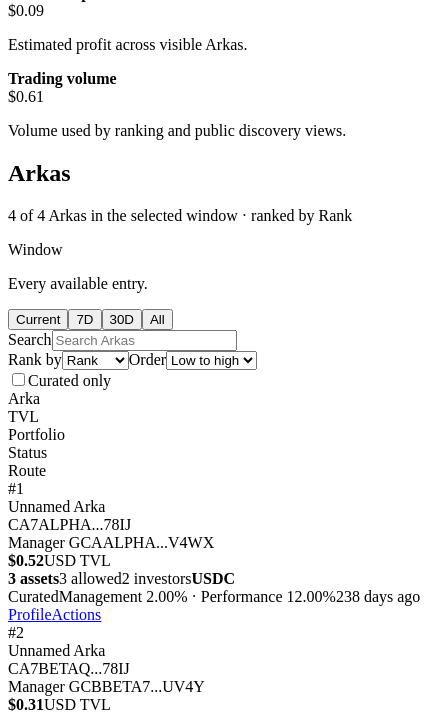
Test case: vault entrypoints › orders the leaderboard by profit and volume
(page scrolled)
Select "Profit" in the dropdown with test id "vaults-sort-metric" at (95, 360), box [62,351,129,370]
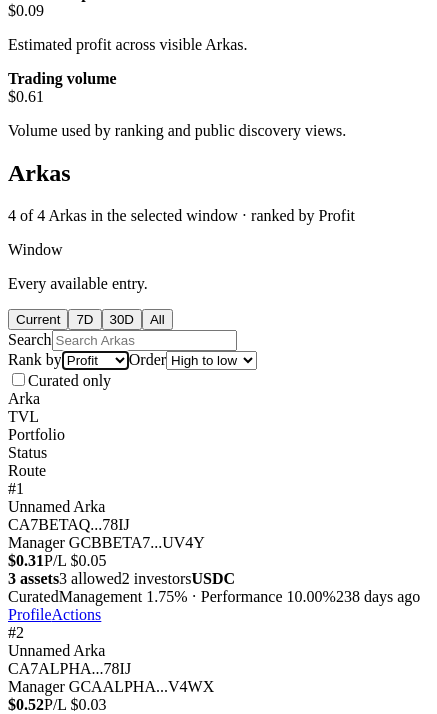
Expected: the element with test id "vault-leaderboard-card" shows "P/L $", [44,552,106,569]
Select "Volume" in the dropdown with test id "vaults-sort-metric" at (95, 360), box [62,351,129,370]
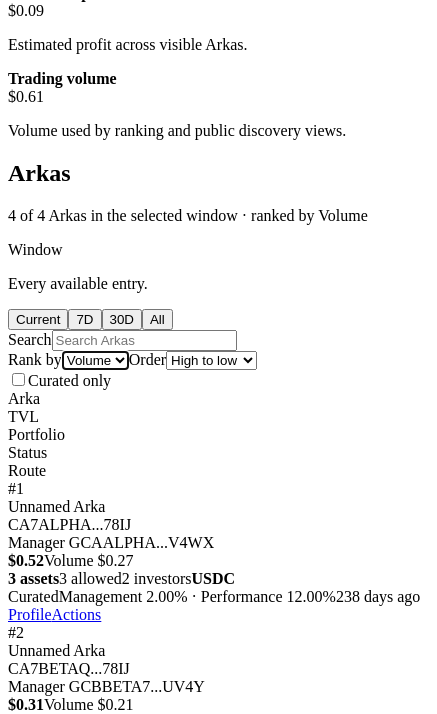
Expected: the element with test id "vault-leaderboard-card" shows "Volume $", [44,552,134,569]
